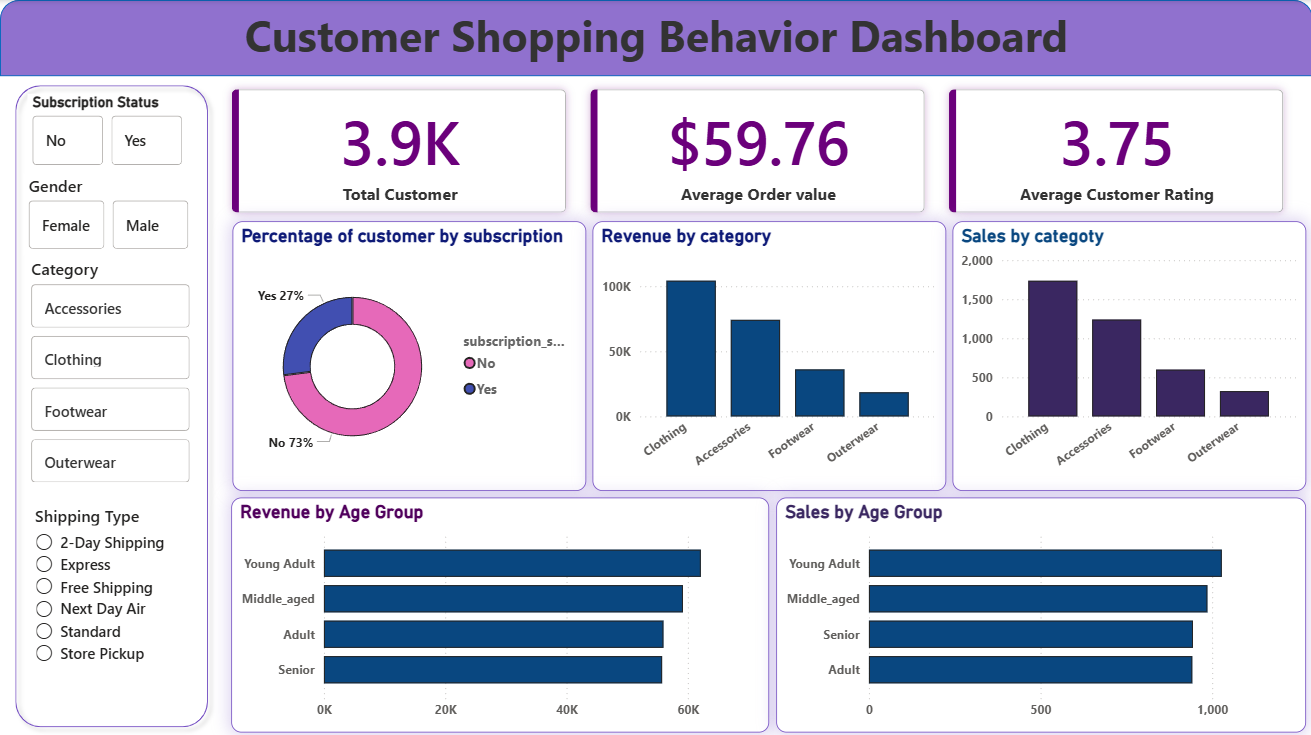

Layout of this report page (visuals, bound fields, positions):
{"tool":"powerbi","page":{"name":"Page 1","canvas":[1300,729],"ordinal":0},"visuals":[{"type":"cardVisual","fields":{"Data":["customer_behavior customer.Numner of customer","customer_behavior customer.Average Purchase Amount","customer_behavior customer.Average Review Rating"]},"box":[202.1,60.8,1098.5,178.5],"z":0},{"type":"shape","box":[0,0,1300.6,75.6],"z":1000},{"type":"textbox","box":[0,0,1300.6,121.5],"z":2000},{"type":"donutChart","title":"Percentage of customer by subscription","fields":{"Category":["customer_behavior customer.subscription_status"],"Y":["CountNonNull(customer_behavior customer.customer_id)"]},"box":[230,218.8,350,267.5],"z":3000},{"type":"clusteredColumnChart","title":"Revenue by category","fields":{"Y":["Sum(customer_behavior customer.purchase_amount)"],"Category":["customer_behavior customer.category"]},"box":[586.2,218.8,350,267.5],"z":4000},{"type":"clusteredColumnChart","title":"Sales by categoty","fields":{"Category":["customer_behavior customer.category"],"Y":["CountNonNull(customer_behavior customer.customer_id)"]},"box":[943.8,218.8,350,267.5],"z":5000},{"type":"shape","box":[6.2,75,208.8,653.8],"z":6000},{"type":"advancedSlicerVisual","title":"Subscription Status","fields":{"Values":["customer_behavior customer.subscription_status"]},"box":[27.2,92.9,159.7,76.8],"z":7000},{"type":"advancedSlicerVisual","title":"Category","fields":{"Values":["customer_behavior customer.category"]},"box":[26,255.1,167.1,231.5],"z":8000},{"type":"advancedSlicerVisual","title":"Gender","fields":{"Values":["customer_behavior customer.gender"]},"box":[23.5,172.1,169.6,80.5],"z":9000},{"type":"listSlicer","title":"Shipping Type","fields":{"Values":["customer_behavior customer.shipping_type"]},"box":[29.7,499,154.8,215.4],"z":10000},{"type":"clusteredBarChart","title":"Revenue by Age Group","fields":{"Y":["Sum(customer_behavior customer.purchase_amount)"],"Category":["customer_behavior customer.age_group"]},"box":[228.8,492.5,532.5,232.5],"z":11000},{"type":"clusteredBarChart","title":"Sales by Age Group","fields":{"Y":["CountNonNull(customer_behavior customer.customer_id)"],"Category":["customer_behavior customer.age_group"]},"box":[768.8,492.5,525,232.5],"z":12000}]}

Visuals, with their boxes in screenshot pixels (x1, y1, x2, y2), scaled from the page's 1300x729 canvas onto the 1311x735 screenshot:
cardVisual - customer_behavior customer.Numner of customer x customer_behavior customer.Average Purchase Amount: bbox=[204, 61, 1310, 241]
shape: bbox=[0, 0, 1310, 76]
textbox: bbox=[0, 0, 1310, 122]
"Percentage of customer by subscription" donutChart: bbox=[232, 221, 585, 490]
"Revenue by category" clusteredColumnChart: bbox=[591, 221, 944, 490]
"Sales by categoty" clusteredColumnChart: bbox=[952, 221, 1305, 490]
shape: bbox=[6, 76, 217, 734]
"Subscription Status" advancedSlicerVisual: bbox=[27, 94, 188, 171]
"Category" advancedSlicerVisual: bbox=[26, 257, 195, 491]
"Gender" advancedSlicerVisual: bbox=[24, 174, 195, 255]
"Shipping Type" listSlicer: bbox=[30, 503, 186, 720]
"Revenue by Age Group" clusteredBarChart: bbox=[231, 497, 768, 731]
"Sales by Age Group" clusteredBarChart: bbox=[775, 497, 1305, 731]
